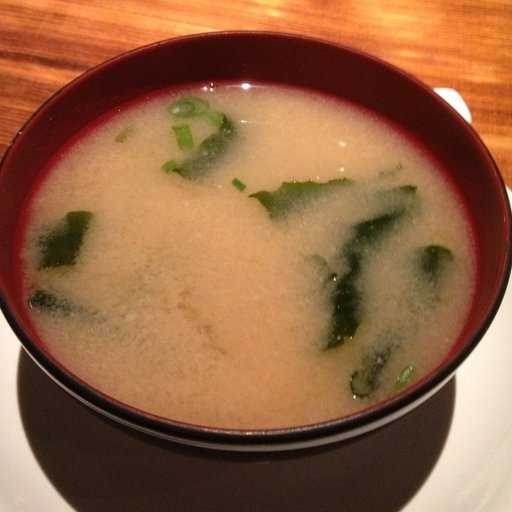soup: (12, 26, 499, 435)
